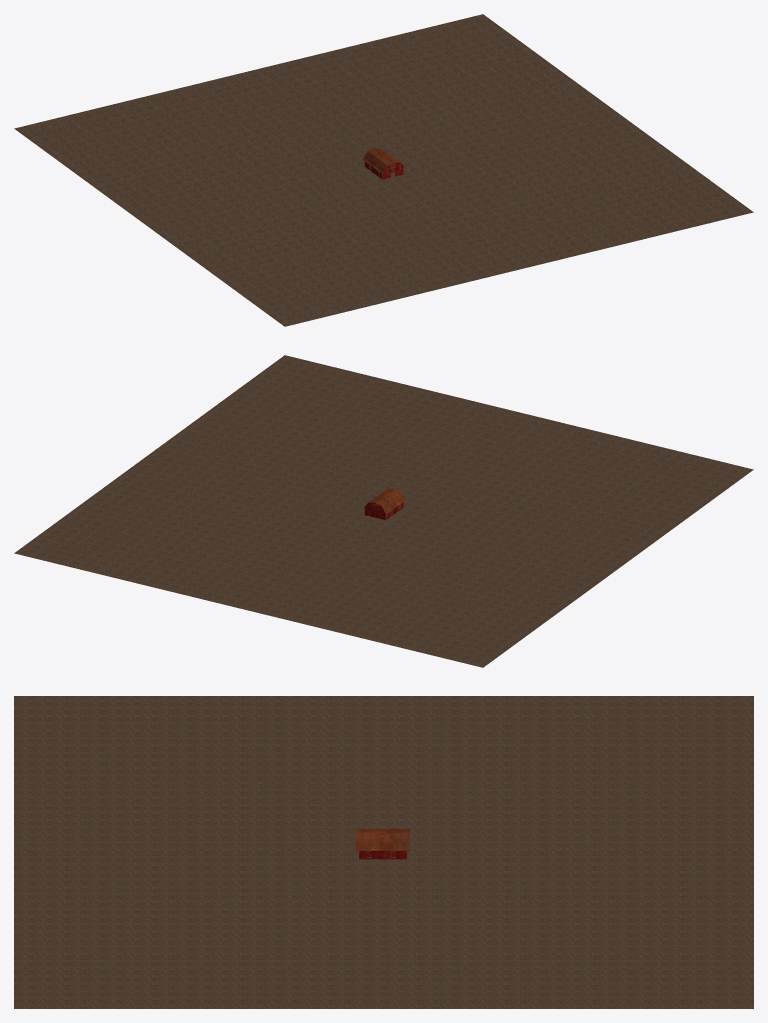
File: level52.obj
3 views of the same model, one above another, from view 1: azimuth 30°, elevation 25°; view 2: azimuth 150°, elevation 25°; view 3: azimuth 270°, elevation 25° (orthographic). The views are drawn at different scales.
Visible parts, largest first — view 1: Suelo_Plane, Cube.106_Cube.002; view 2: Suelo_Plane, Cube.106_Cube.002; view 3: Suelo_Plane, Cube.106_Cube.002.
Part boxes in pixels (x1=…): Suelo_Plane: x1=14, y1=14, x2=753, y2=326; Cube.106_Cube.002: x1=362, y1=148, x2=405, y2=173; Suelo_Plane: x1=14, y1=355, x2=753, y2=667; Cube.106_Cube.002: x1=363, y1=488, x2=405, y2=514; Suelo_Plane: x1=14, y1=696, x2=753, y2=1008; Cube.106_Cube.002: x1=355, y1=828, x2=409, y2=850.
Bounding box in the file's own units: 549 × 21.07 × 549.
8 materials, 7 textured.
